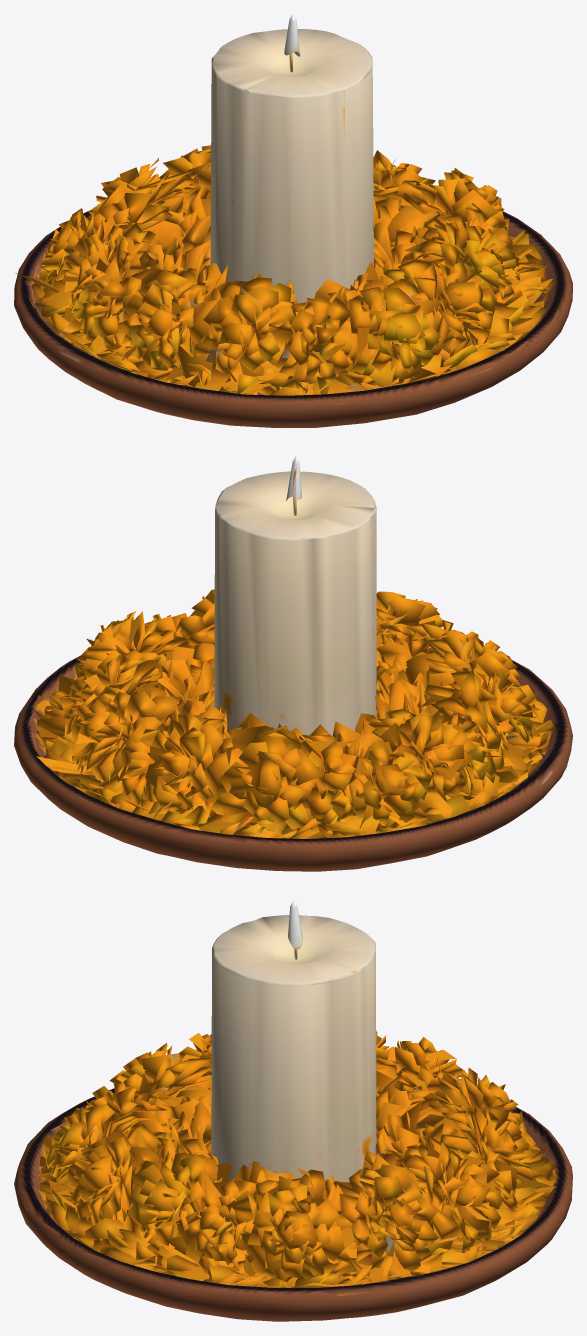
The model's file is Meshy_AI_Marigold_Candle_Glow_1018054806_texture.obj.
The picture shows the model from 3 angles, top to bottom: view 1: azimuth 30°, elevation 25°; view 2: azimuth 150°, elevation 25°; view 3: azimuth 270°, elevation 25°; orthographic projection.
Visible parts, largest first — view 1: Meshy_AI_Marigold_Candle_Glow_1018054806_texture; view 2: Meshy_AI_Marigold_Candle_Glow_1018054806_texture; view 3: Meshy_AI_Marigold_Candle_Glow_1018054806_texture.
Part boxes in pixels (box(x1,y1,x2,y2)): Meshy_AI_Marigold_Candle_Glow_1018054806_texture: box(14, 14, 572, 427); Meshy_AI_Marigold_Candle_Glow_1018054806_texture: box(14, 456, 572, 871); Meshy_AI_Marigold_Candle_Glow_1018054806_texture: box(14, 900, 572, 1321).
Bounding box in the file's own units: 0.957 × 0.6367 × 0.9438.
1 material, 1 textured.
